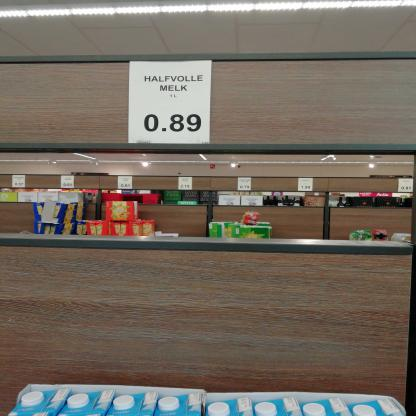prtg: (129, 60, 216, 146)
